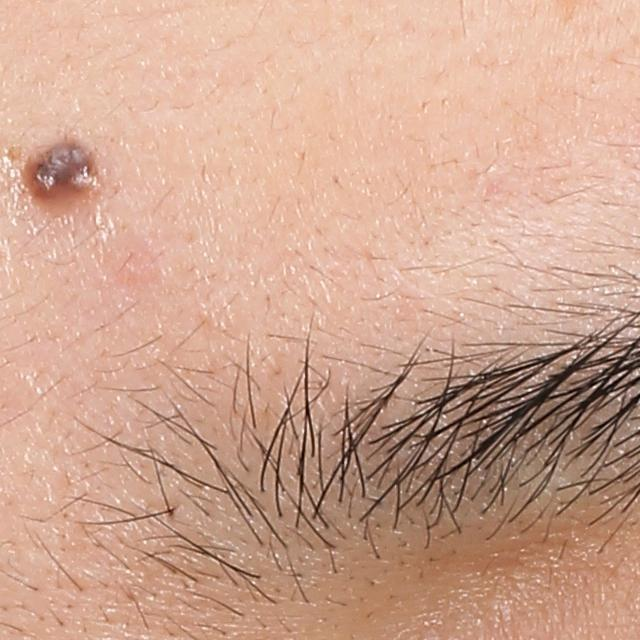nevus: (22, 132, 108, 204)
